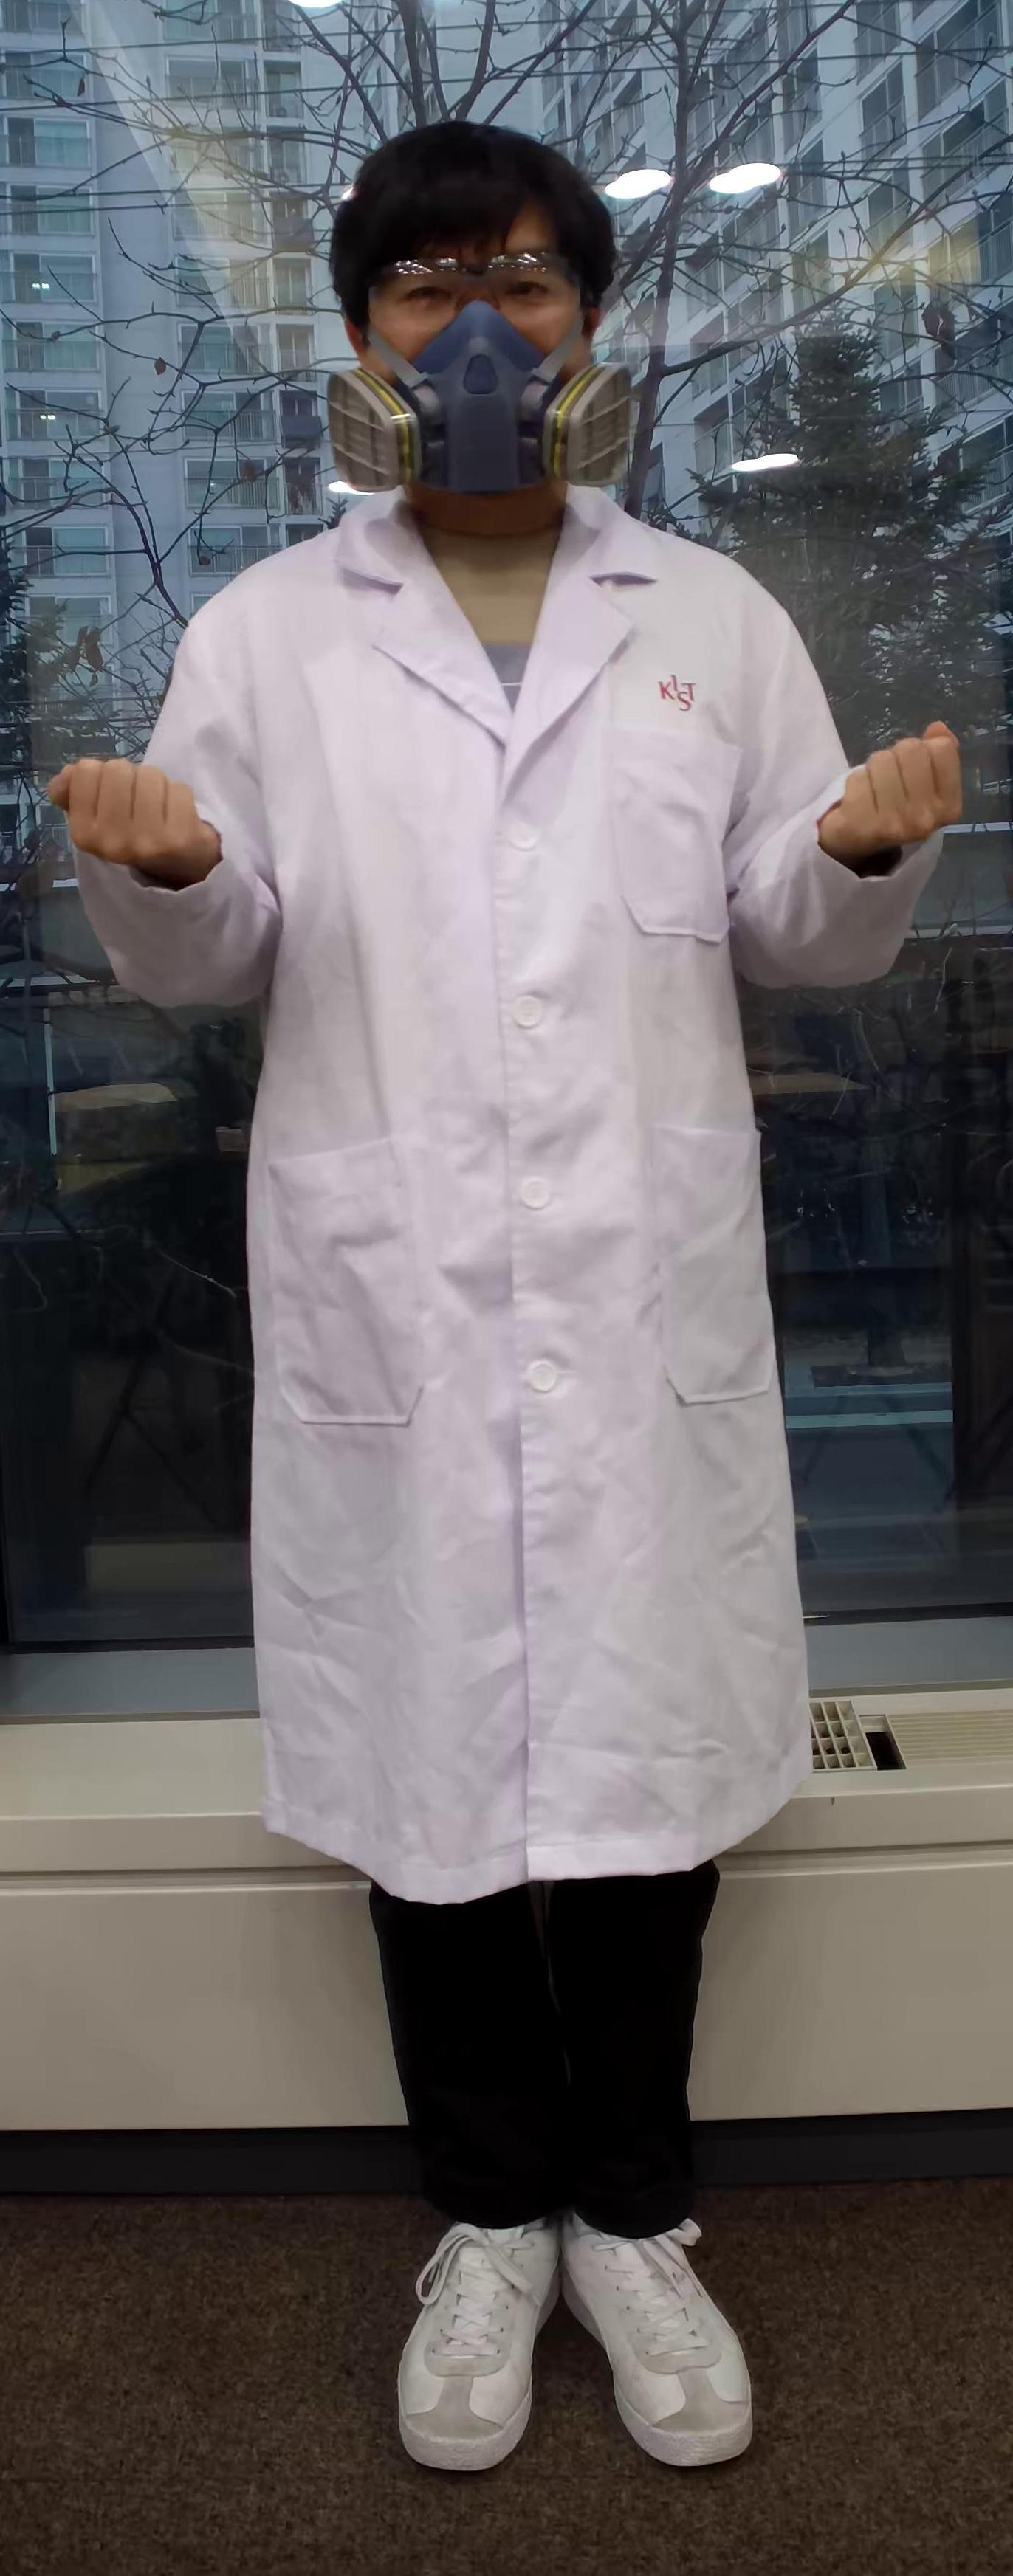lab_coat: (209, 541, 803, 1853)
